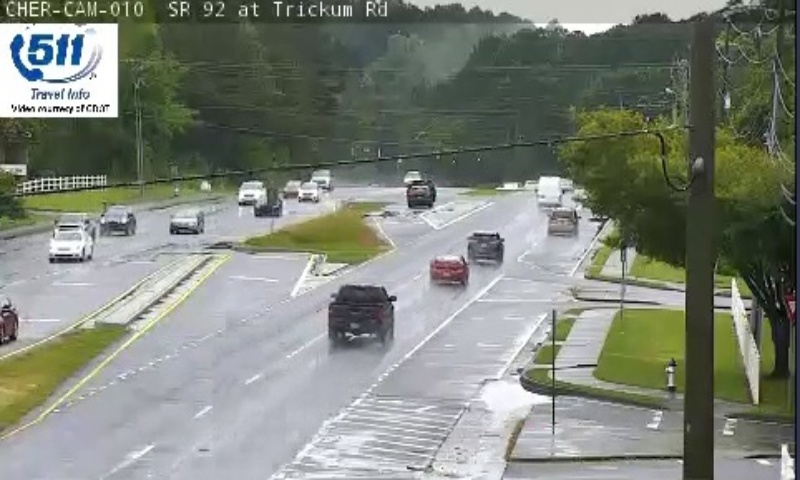car: (327, 285, 394, 337), (431, 256, 468, 286), (468, 230, 502, 261), (547, 207, 579, 238)
van: (536, 176, 562, 207)
